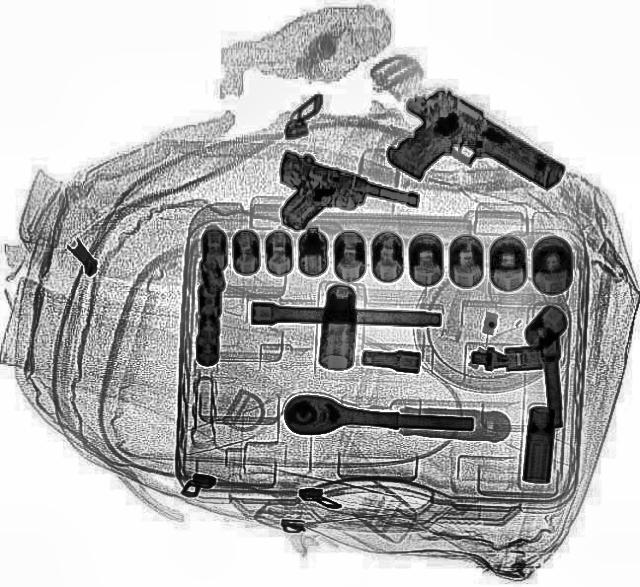Gun: (363, 75, 572, 237), (255, 148, 423, 260)
